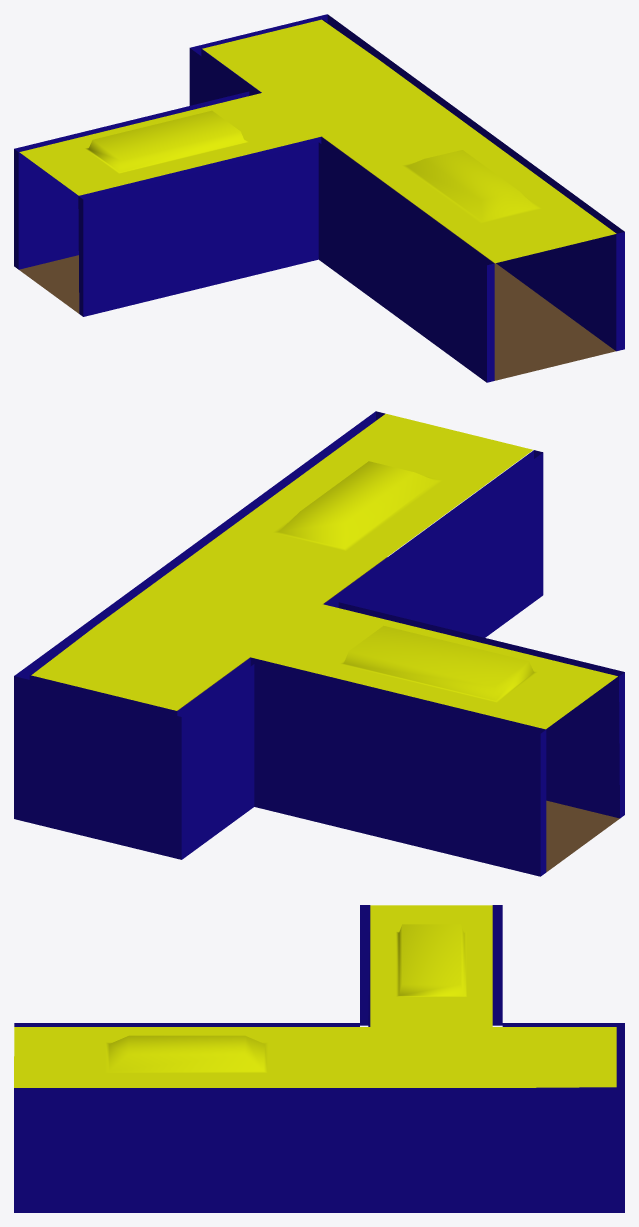
File: Hallway.fbx
The picture shows the model from 3 angles, top to bottom: view 1: azimuth 30°, elevation 25°; view 2: azimuth 150°, elevation 25°; view 3: azimuth 270°, elevation 25°; orthographic projection. The views are drawn at different scales.
Parts seen in each view (by area): view 1: Hallway_wall_interior, Hallway_cieling, Hallway_wall_exterior, Hallwy_floor; view 2: Hallway_wall_exterior, Hallway_cieling, Hallway_wall_interior, Hallwy_floor; view 3: Hallway_wall_exterior, Hallway_cieling, Hallway_wall_interior.
Part boxes in pixels (x1,y1,x2,y2): Hallway_wall_interior: (78, 136, 494, 382); Hallway_cieling: (19, 19, 616, 263); Hallway_wall_exterior: (14, 14, 624, 351); Hallwy_floor: (19, 137, 615, 380); Hallway_wall_exterior: (14, 411, 546, 876); Hallway_cieling: (31, 414, 617, 729); Hallway_wall_interior: (324, 450, 624, 818); Hallwy_floor: (177, 557, 619, 872); Hallway_wall_exterior: (14, 905, 624, 1212); Hallway_cieling: (14, 905, 616, 1087); Hallway_wall_interior: (14, 905, 370, 1026).
Size of the model in its own units: 23.36 by 7.74 by 32.24.
